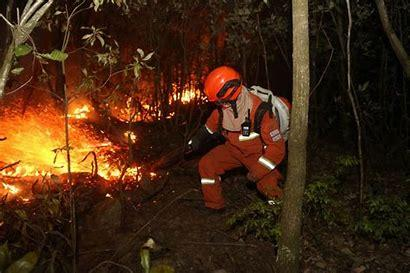smoke: (0, 104, 151, 200), (66, 86, 199, 124)
